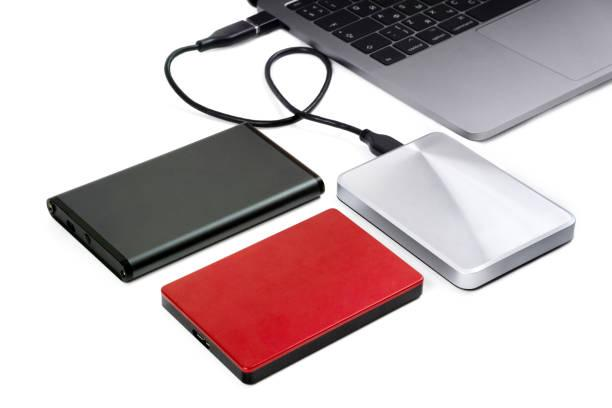HDD: (160, 209, 424, 385), (335, 132, 578, 292)
